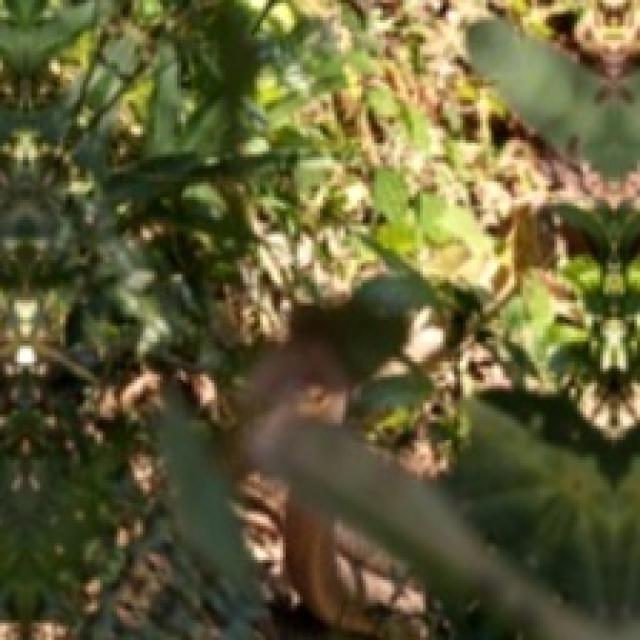king cobra: (234, 343, 443, 637)
